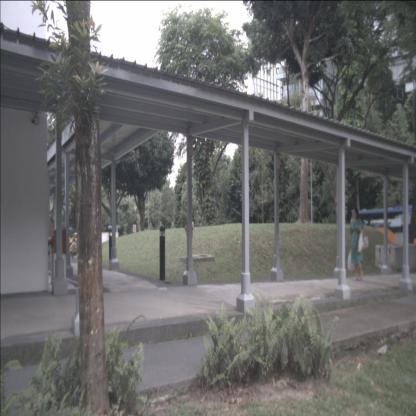human-pedestrian-adult: (348, 207, 370, 282)
vehicle-bicycle: (69, 231, 90, 259)
vehicle-bus-rigid: (350, 205, 415, 252)
